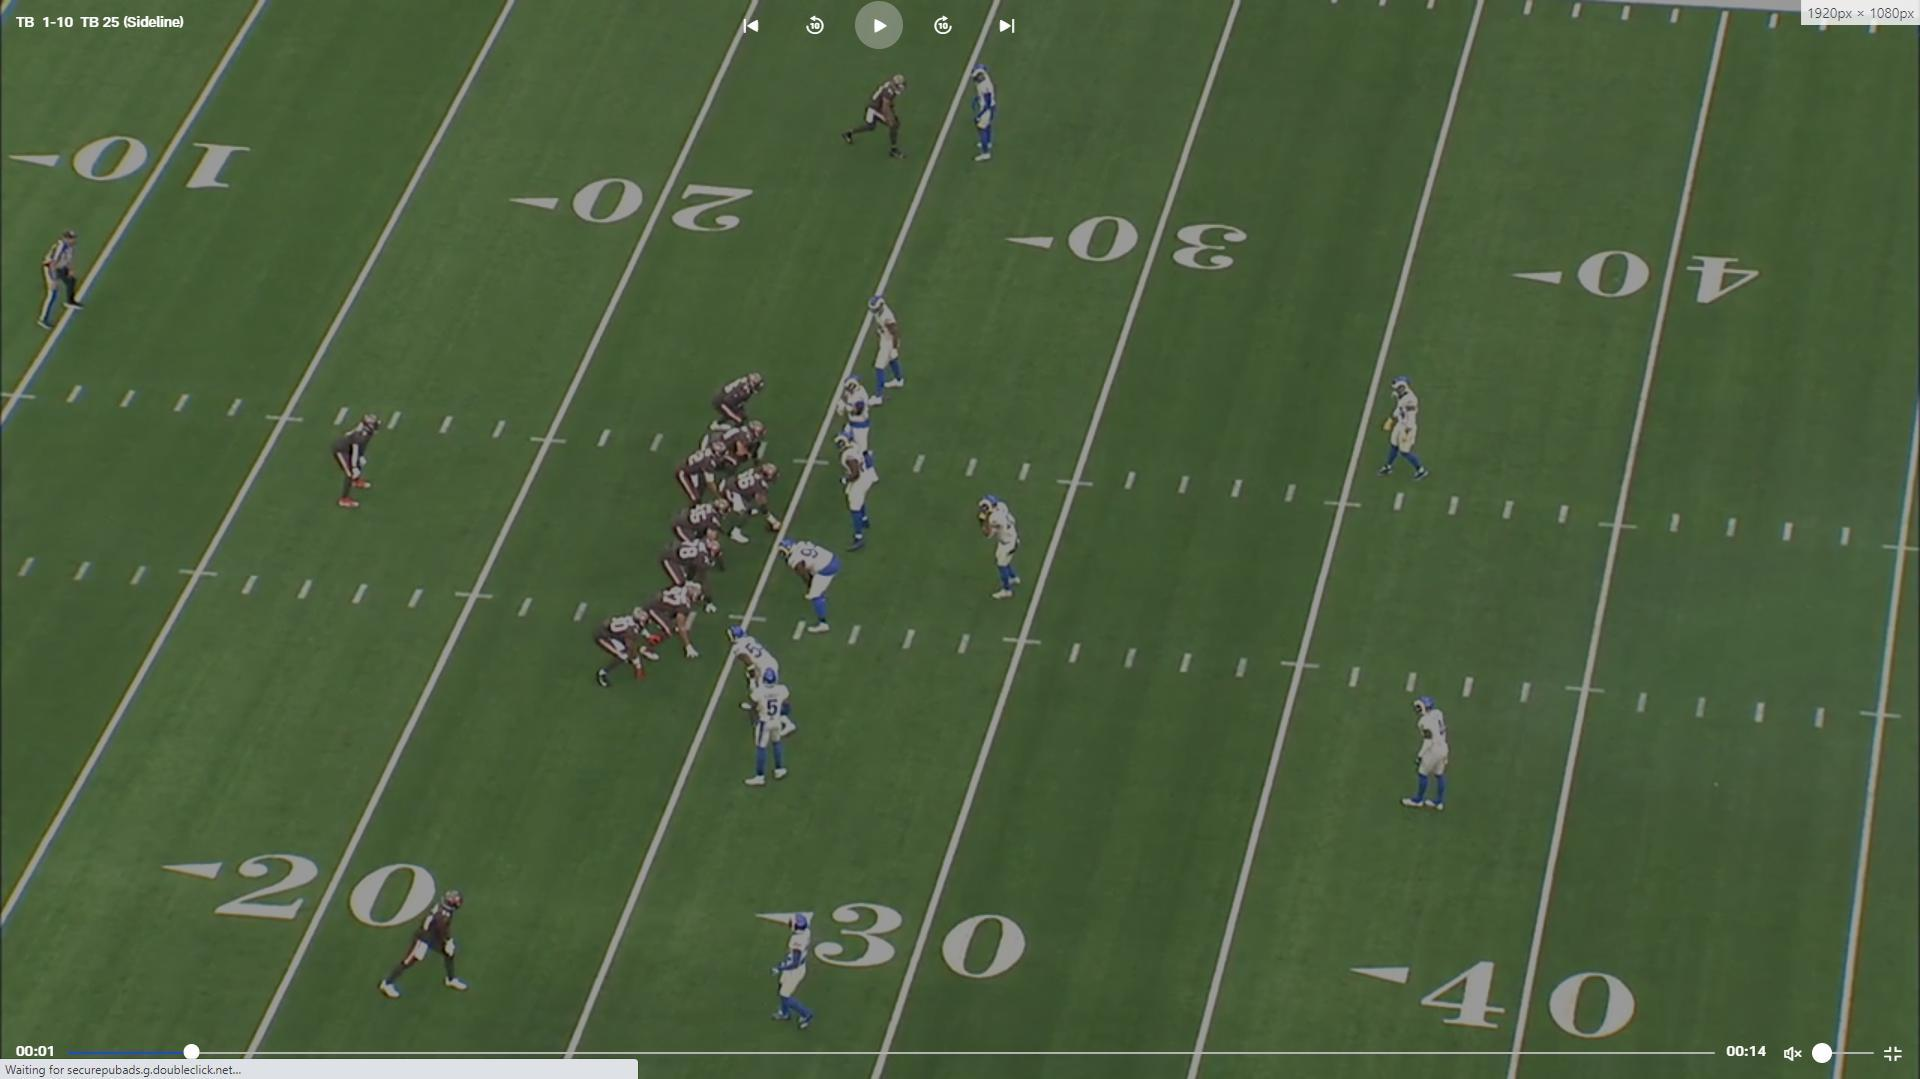defense: (727, 622, 800, 728), (778, 533, 846, 641), (772, 909, 830, 1033), (1399, 690, 1454, 820), (740, 676, 796, 794), (1374, 373, 1433, 484), (835, 427, 885, 554), (859, 297, 911, 412), (974, 491, 1024, 607), (963, 60, 1004, 169), (833, 369, 883, 452)
oline: (716, 460, 789, 543), (666, 497, 734, 578), (657, 536, 725, 616), (703, 420, 771, 475), (712, 369, 772, 431)
qb: (680, 433, 730, 514)
ref: (35, 228, 82, 335)
skill: (377, 885, 476, 1006), (839, 70, 910, 163), (596, 603, 664, 691), (327, 409, 383, 514), (640, 584, 704, 668)
